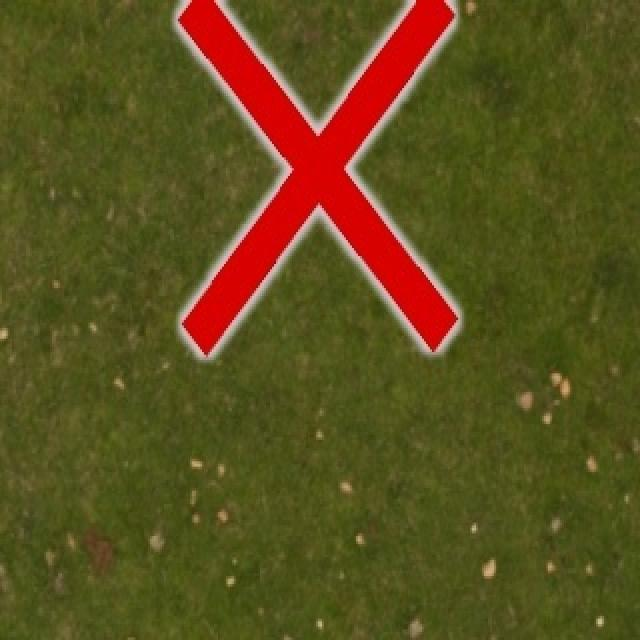x_marker: (177, 0, 457, 355)
